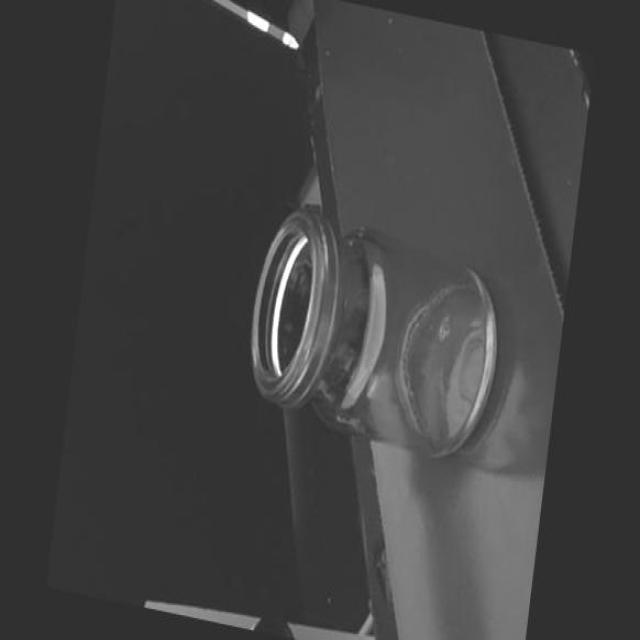glass: (233, 185, 514, 473)
